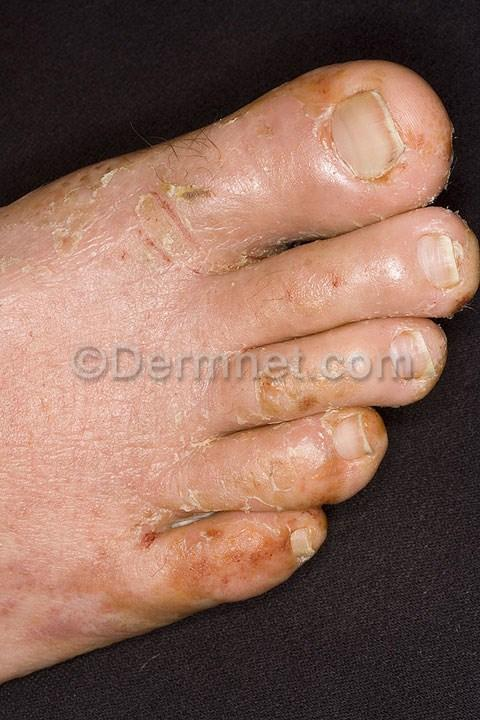Eczema: (26, 164, 130, 270), (297, 80, 388, 158), (152, 482, 222, 549), (246, 534, 298, 585)
